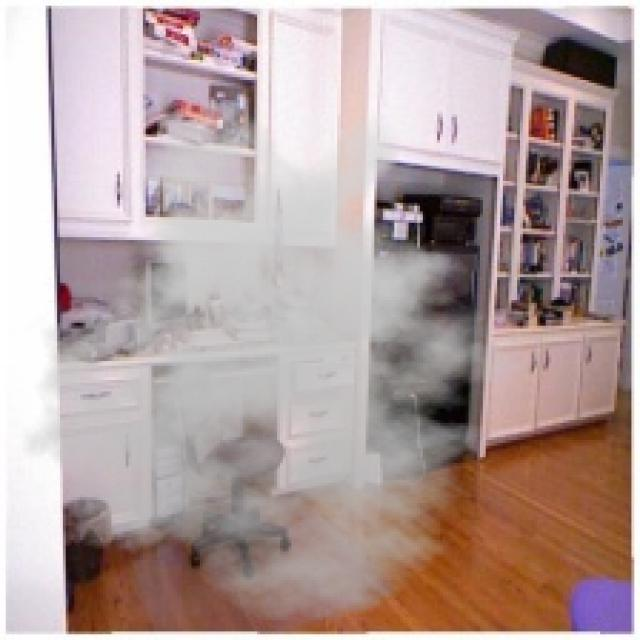smoke: (8, 94, 546, 623)
